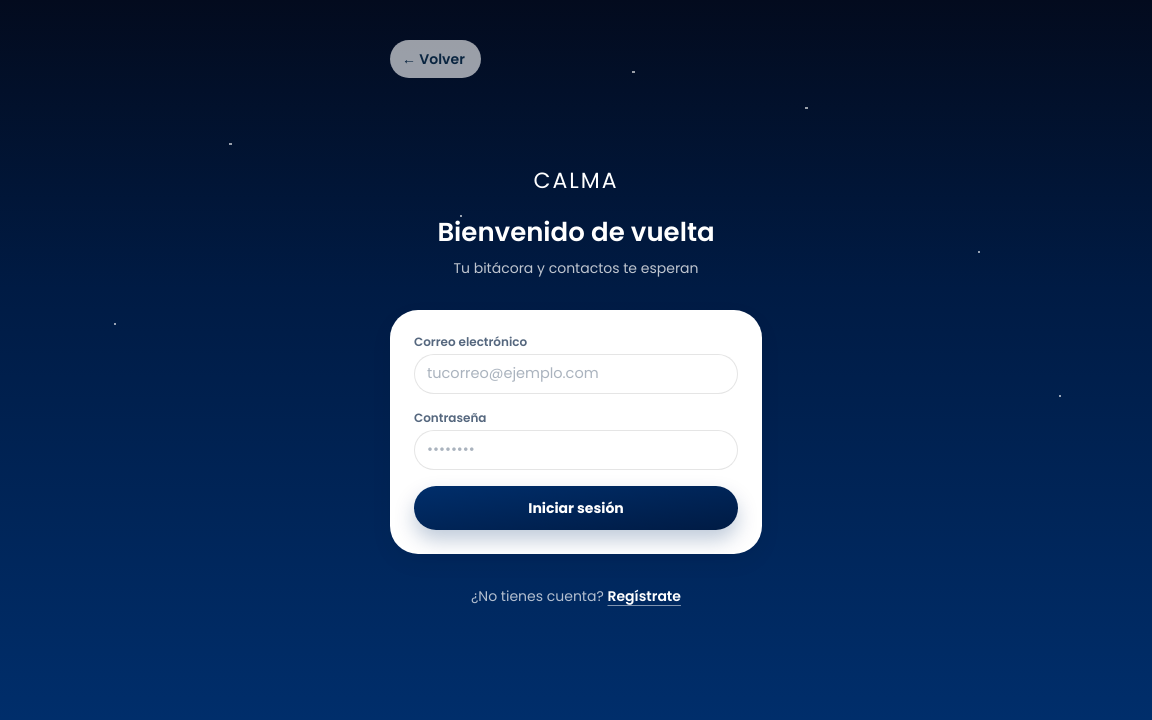
Test: navegación › después de iniciar sesión vuelve a la pantalla de origen, no a /islas
Expected: the heading "Bienvenido de vuelta" is shown, [437,214,715,250]
Type "prueba@calma.test" into the field labelled "Correo electrónico".
click(576, 374); type("prueba@calma.test")  # box [414,354,738,394]
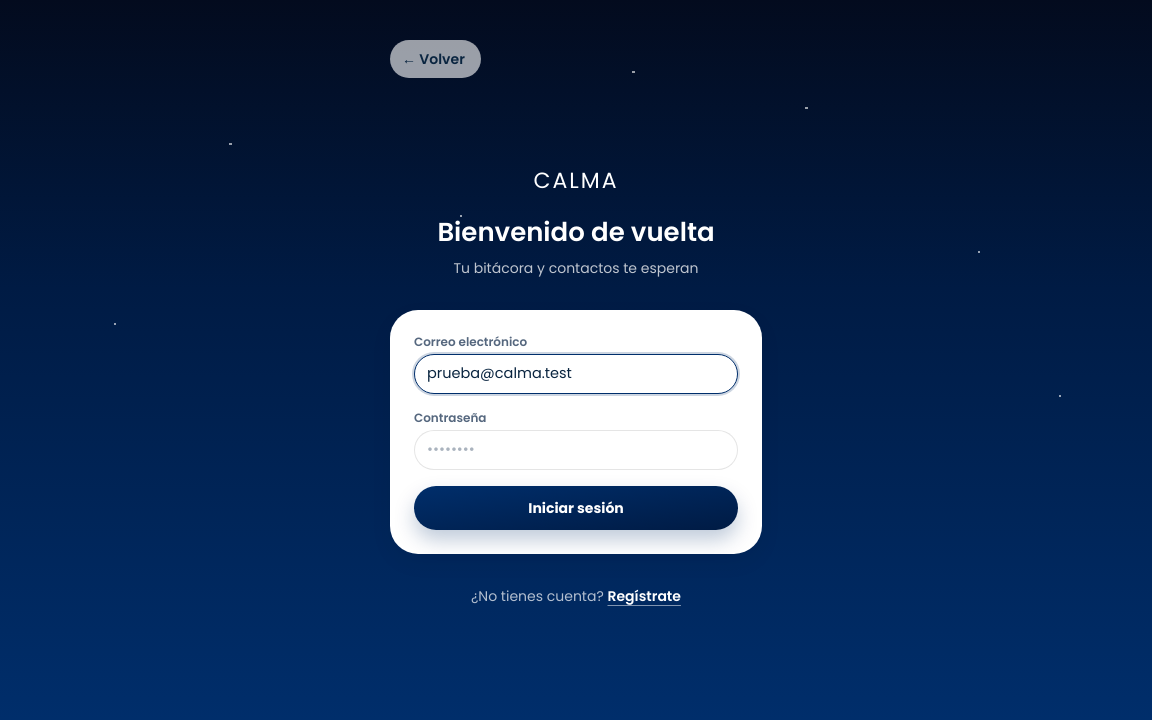
Type "contrasena-de-prueba" into the password field labelled "Contraseña".
click(576, 450); type("contrasena-de-prueba")  # box [414,430,738,470]
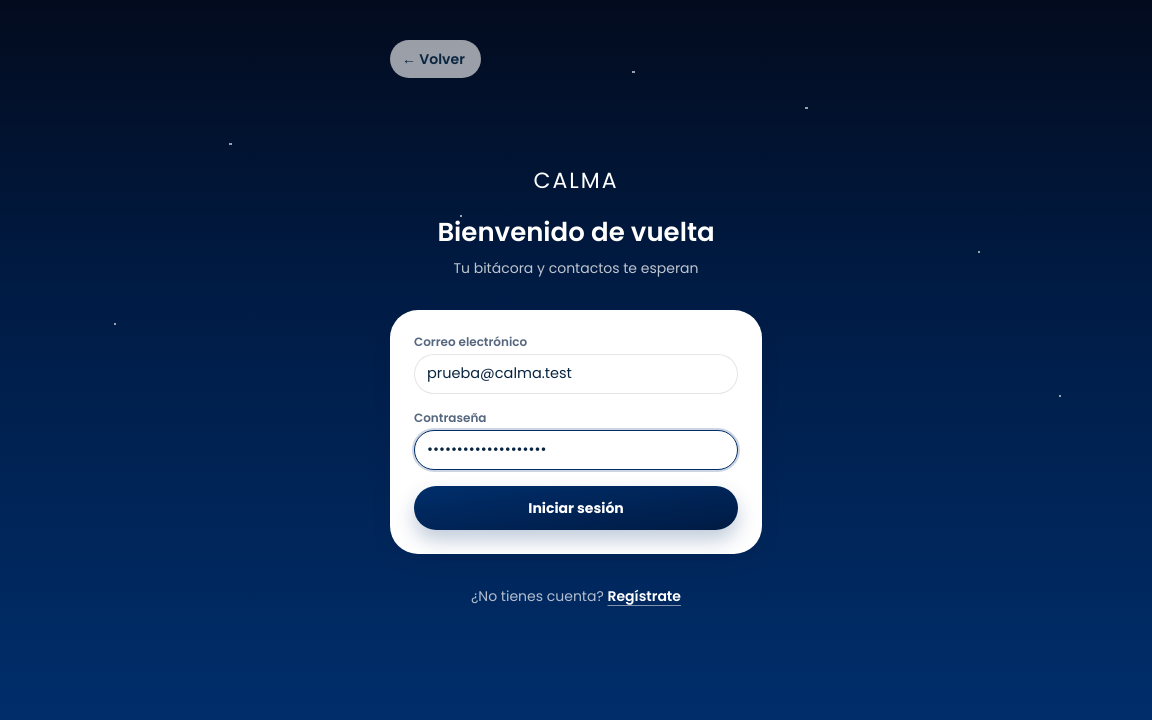
Click the button "Iniciar sesión".
click(576, 508)  # box [414,486,738,530]
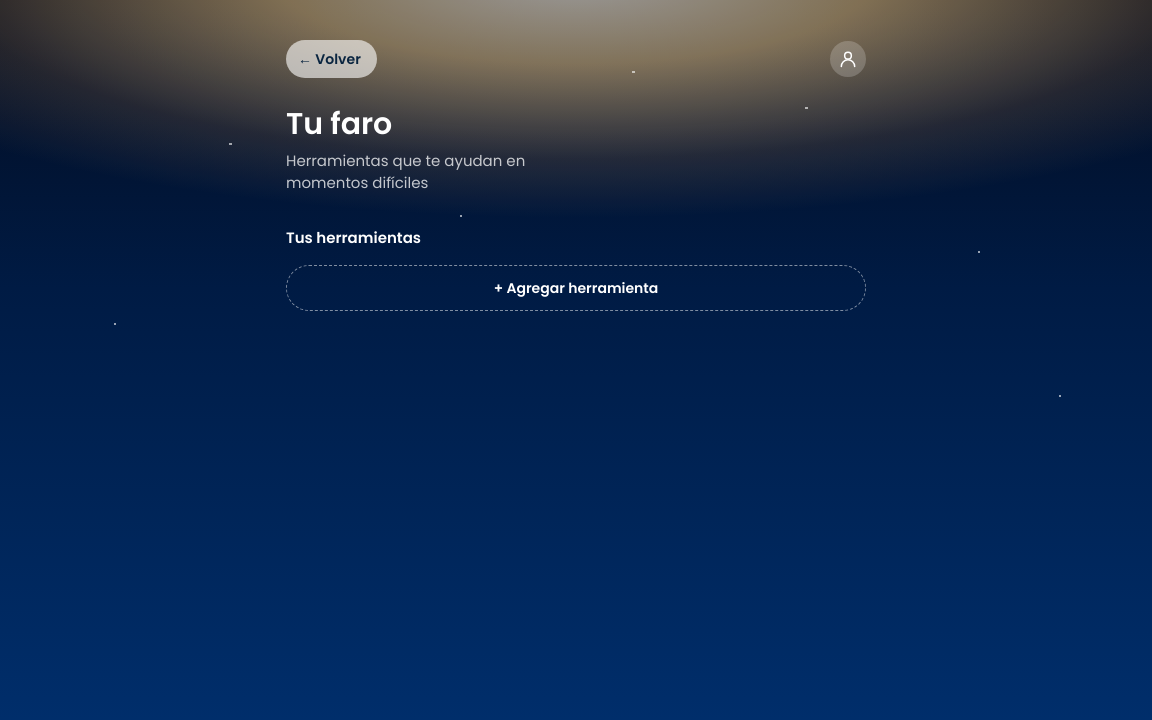
Result: the heading "Tu faro" is shown at [286,103,392,145]
